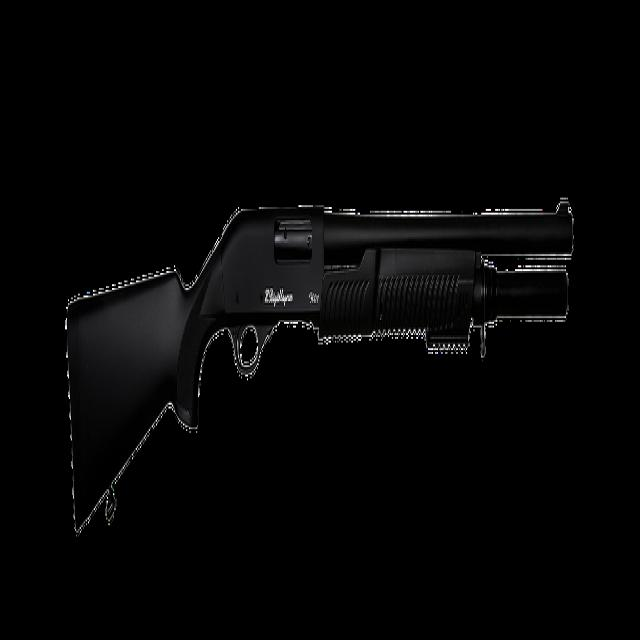Weapon: (55, 186, 586, 548)
